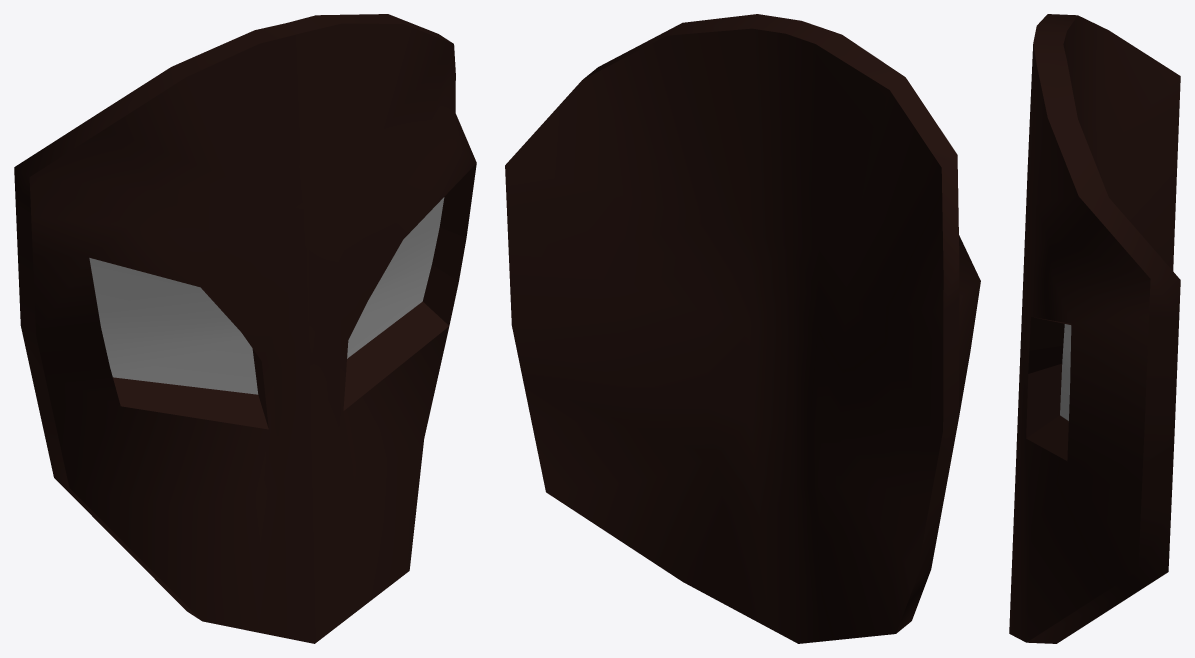
File: warrior_mask_lvl1.FBX
The picture shows the model from 3 angles, left to right: view 1: azimuth 30°, elevation 25°; view 2: azimuth 150°, elevation 25°; view 3: azimuth 270°, elevation 25°; orthographic projection. The views are drawn at different scales.
Parts seen in each view (by area): view 1: Cylinder001; view 2: Cylinder001; view 3: Cylinder001.
Boxes of the visible parts, x1=… form: Cylinder001: x1=14, y1=14, x2=476, y2=643; Cylinder001: x1=505, y1=14, x2=980, y2=643; Cylinder001: x1=1009, y1=14, x2=1180, y2=643.
Size of the model in its own units: 24.37 by 32.96 by 8.66.
